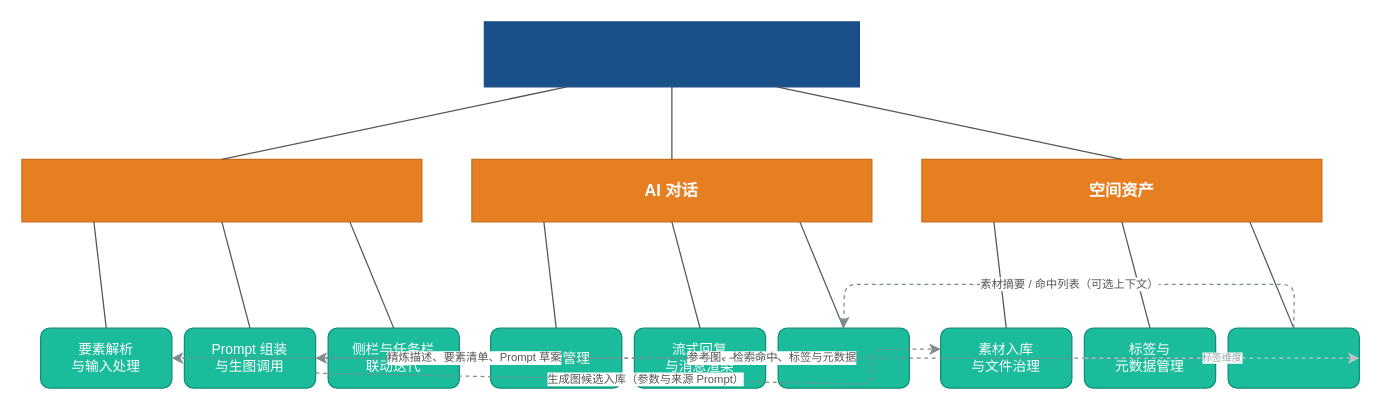
This 1391x416 diagram has some shape labels left out. Each missing label, with the centre of its shape:
"创作模块" belongs at [671,54].
"图片创作" belongs at [221,190].
"资产检索 与引用输出" belongs at [1293,357].
"辅助创作 与导出草稿" belongs at [843,357].
